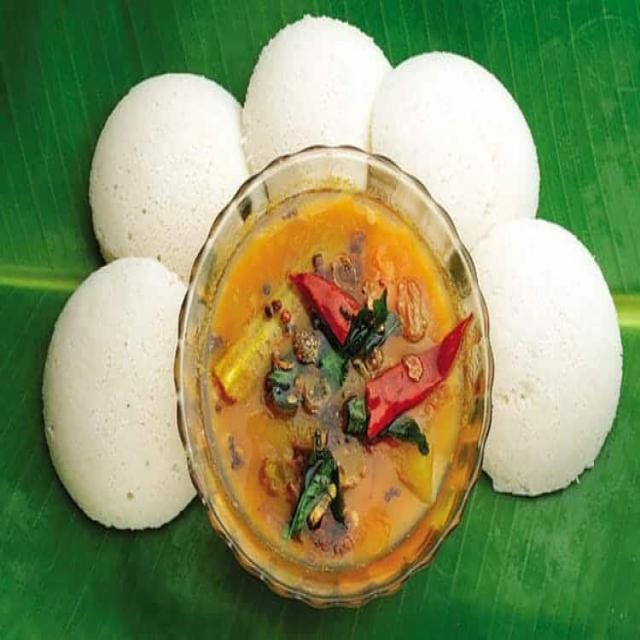Idly: (466, 210, 634, 511), (37, 252, 201, 549), (373, 33, 547, 252), (87, 64, 250, 287), (238, 9, 389, 186)
